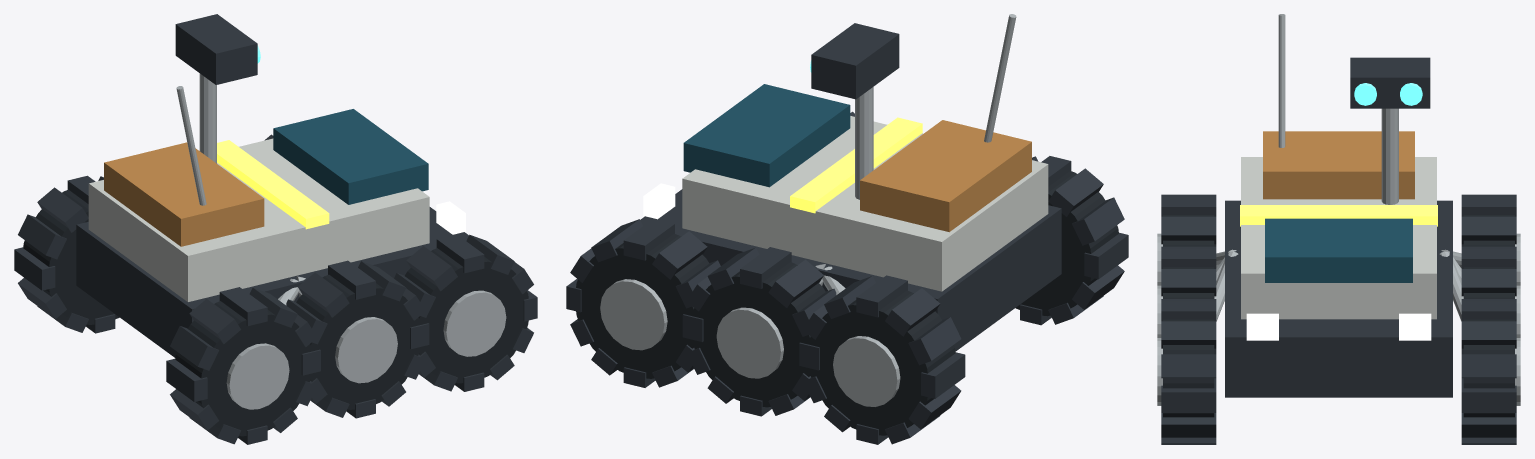
The model's file is rover-gold.glb.
3 renders of one model, left to right at view 1: azimuth 30°, elevation 25°; view 2: azimuth 150°, elevation 25°; view 3: azimuth 270°, elevation 25°, orthographic. The views are drawn at different scales.
Visible parts, largest first — view 1: Science deck.001, Battery module.001, Rover chassis.001, Sensor windshield.001, Wheel.006, Wheel.010, Wheel.008, Stereo camera.001, Color stripe.001, Wheel hub.006, Wheel hub.010, Wheel hub.008 (+22 smaller); view 2: Science deck.001, Battery module.001, Rover chassis.001, Sensor windshield.001, Wheel.007, Wheel.011, Wheel.009, Stereo camera.001, Wheel.006, Wheel hub.011, Wheel hub.009, Wheel hub.007 (+22 smaller); view 3: Rover chassis.001, Science deck.001, Sensor windshield.001, Battery module.001, Stereo camera.001, Color stripe.001, Mast.001, Wheel.010, Wheel.011, Tread block.073, Tread block.085, Tread block.123 (+28 smaller).
Boxes of the visible parts, x1,y1,x2,y2 form: Science deck.001: (88,138,429,301); Battery module.001: (104,142,264,246); Rover chassis.001: (76,207,468,357); Sensor windshield.001: (273,109,428,204); Wheel.006: (175,301,311,436); Wheel.010: (405,248,528,383); Wheel.008: (296,274,420,409); Stereo camera.001: (175,14,257,84); Color stripe.001: (217,140,329,229); Wheel hub.006: (226,343,289,409); Wheel hub.010: (443,290,506,356); Wheel hub.008: (335,317,397,383); Science deck.001: (682,116,1048,291); Battery module.001: (860,120,1031,232); Rover chassis.001: (640,189,1061,351); Sensor windshield.001: (683,84,850,187); Wheel.007: (809,290,955,435); Wheel.011: (576,233,709,378); Wheel.009: (692,262,825,407); Stereo camera.001: (811,23,899,99); Wheel.006: (1015,171,1118,316); Wheel hub.011: (600,279,667,350); Wheel hub.009: (716,307,783,378); Wheel hub.007: (833,336,900,406); Rover chassis.001: (1225,200,1452,397); Science deck.001: (1241,157,1436,319); Sensor windshield.001: (1265,218,1412,282); Battery module.001: (1263,131,1414,199); Stereo camera.001: (1350,57,1430,108); Color stripe.001: (1240,205,1437,226); Mast.001: (1381,108,1398,204); Wheel.010: (1163,319,1214,417); Wheel.011: (1463,319,1514,417); Tread block.073: (1161,216,1216,244); Tread block.085: (1461,216,1516,244); Tread block.123: (1161,385,1216,412).
Bounding box in the file's own units: 2.06 × 1.8 × 1.91.
